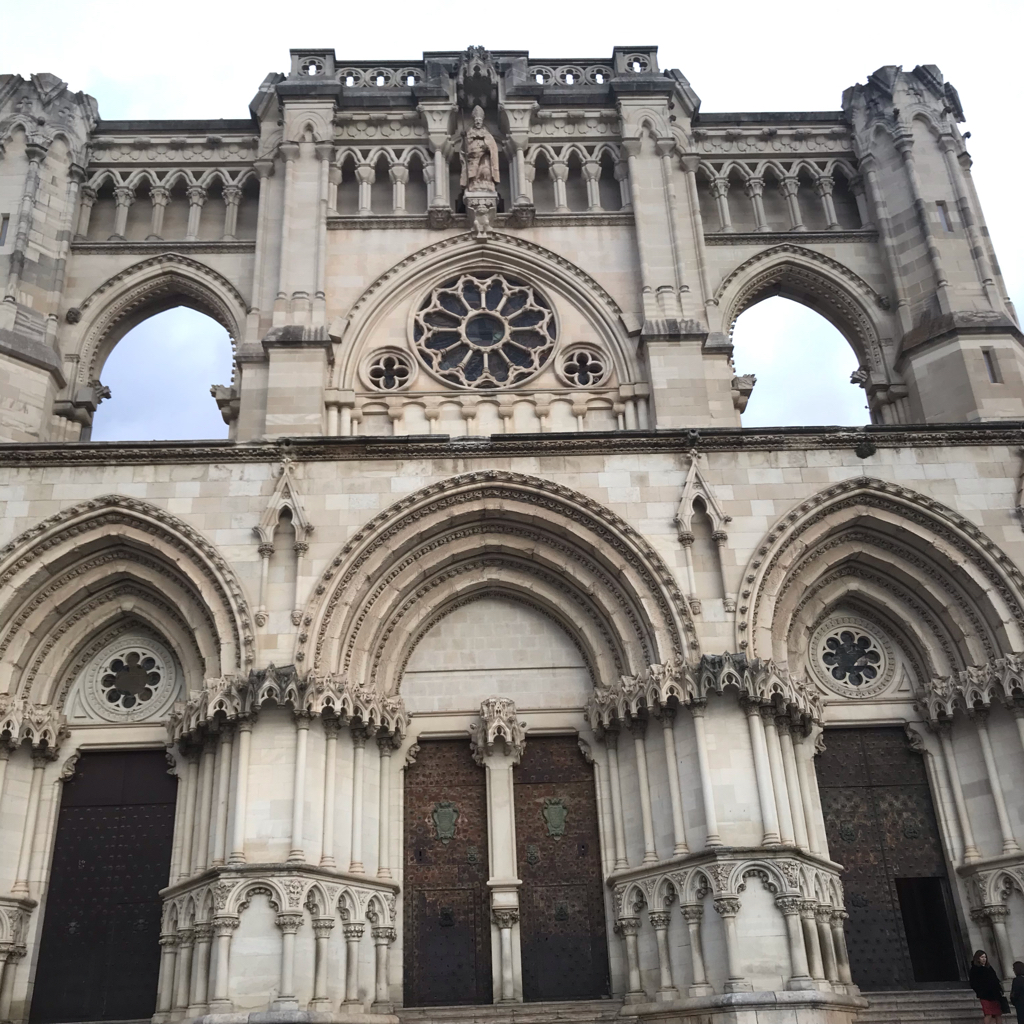arco-apuntado: (722, 480, 1024, 689), (1, 499, 249, 719), (332, 223, 645, 389), (387, 566, 606, 712), (714, 241, 883, 382), (67, 254, 240, 388)
